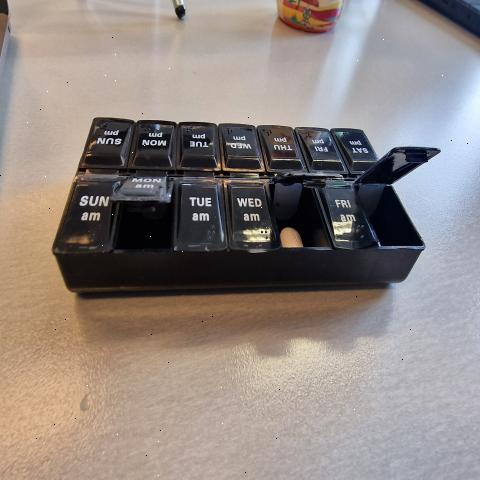Open: (355, 145, 443, 247), (267, 171, 342, 248), (110, 186, 175, 250)
